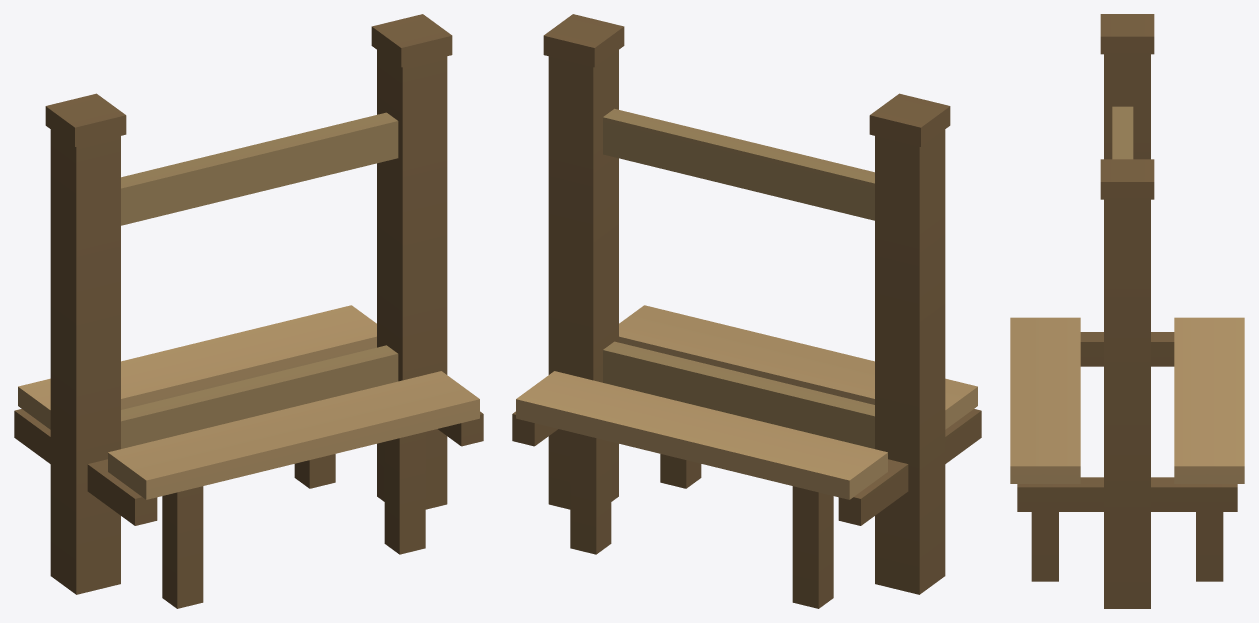
The model's file is SM_Stile.glb.
3 views of the same model, side by side, from view 1: azimuth 30°, elevation 25°; view 2: azimuth 150°, elevation 25°; view 3: azimuth 270°, elevation 25° (orthographic). The views are drawn at different scales.
Parts seen in each view (by area): view 1: SM_Stile; view 2: SM_Stile; view 3: SM_Stile.
Part boxes in pixels (x1=…): SM_Stile: x1=14, y1=14, x2=483, y2=608; SM_Stile: x1=512, y1=14, x2=981, y2=608; SM_Stile: x1=1010, y1=14, x2=1244, y2=608.
Size of the model in its own units: 1.02 by 1.21 by 0.6.
1 material, 1 textured.
